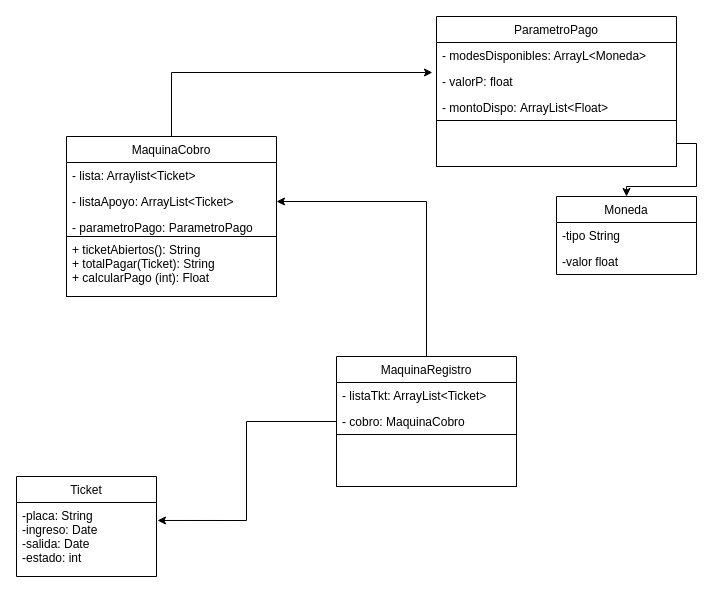
The diagram is 713 pixels wide and 593 high, and some of its shapes have lost their labels. The shapes that lost their labels are listed below. From the top down, each one's centre as x and y in pixels, then its label:
At (x=556, y=143): "+mostrarDisponibilidad: String +detalle(float): String".
At (x=426, y=460): "+ mainMenu: String + infotkt(String): String + getTicket: String".
